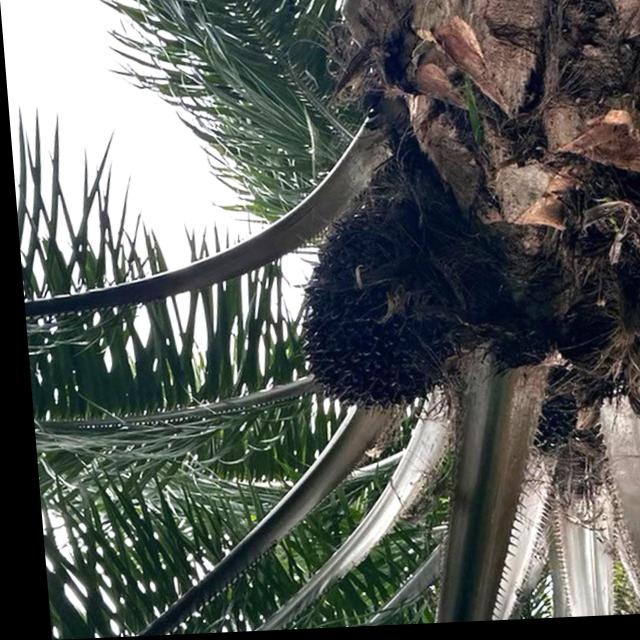ripe: (288, 200, 480, 418), (524, 390, 576, 465)
